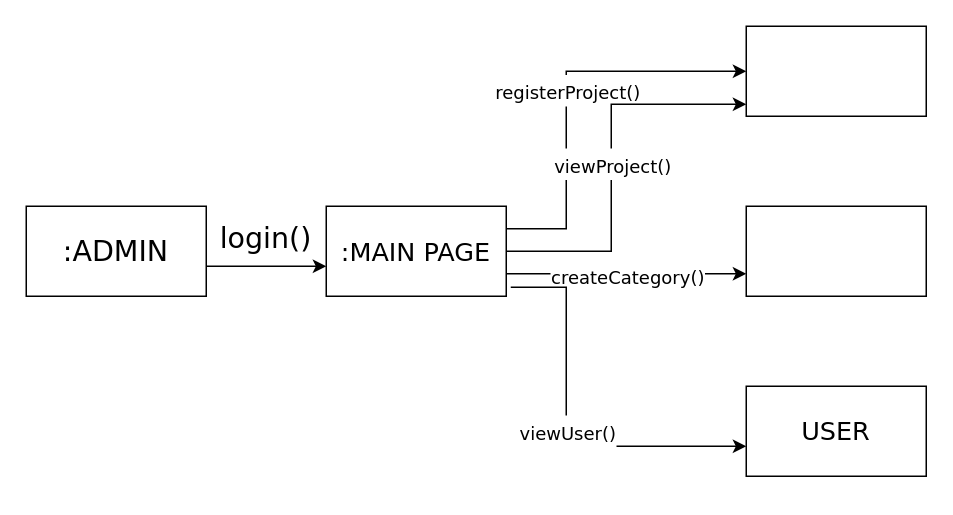
Some shapes in this 953 by 515 pixel diagram are drawn without their labels. The centre of each missing label's shape, as x and y in pixels:
CATEGORY: point (835, 250)
PROJECT: point (835, 70)
